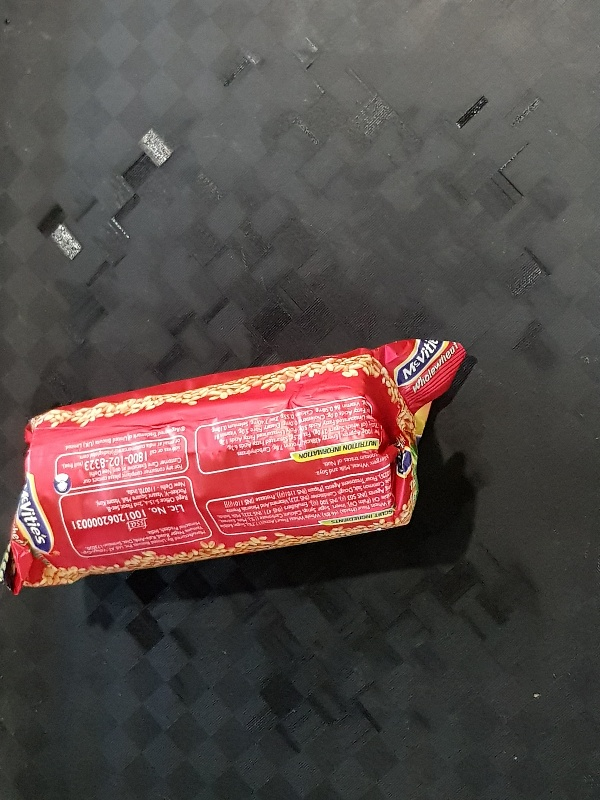McVitie's Wholewheat Marie: (1, 335, 464, 596)
